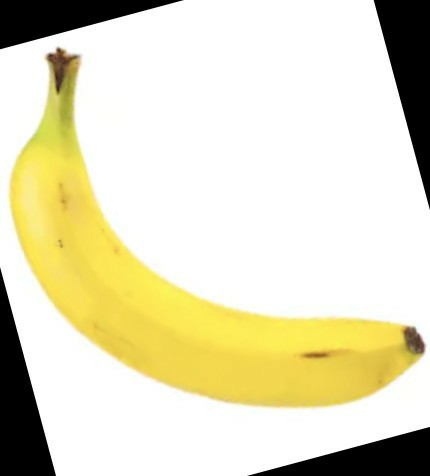fresh_banana: (8, 54, 422, 412)
